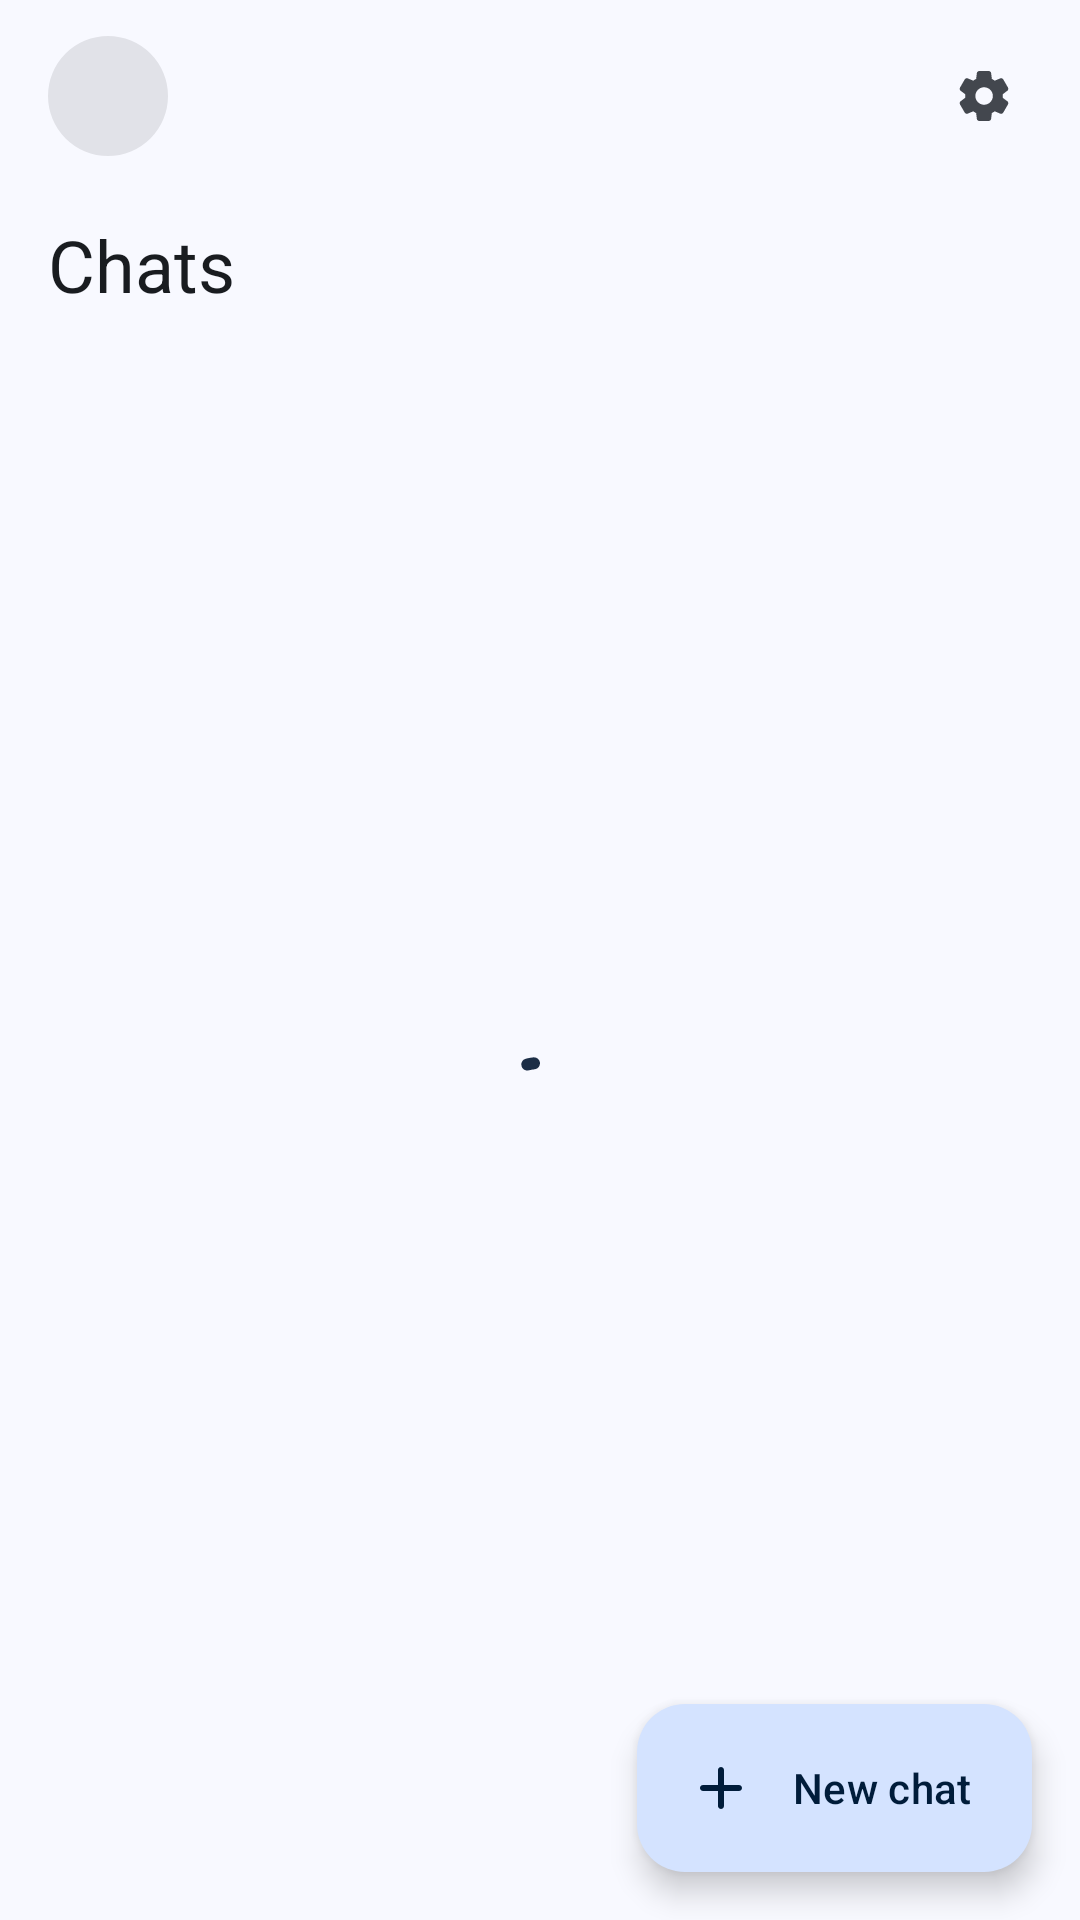

Icon bounding boxes for this 1080w x 1920h phone screenshot, format {"left": x1, "top": y1, "right": x2, "bottom": y2}:
Settings: {"left": 959, "top": 71, "right": 1009, "bottom": 121}
